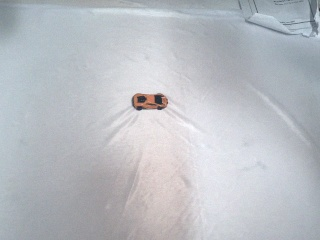toy_car: (127, 92, 174, 112)
